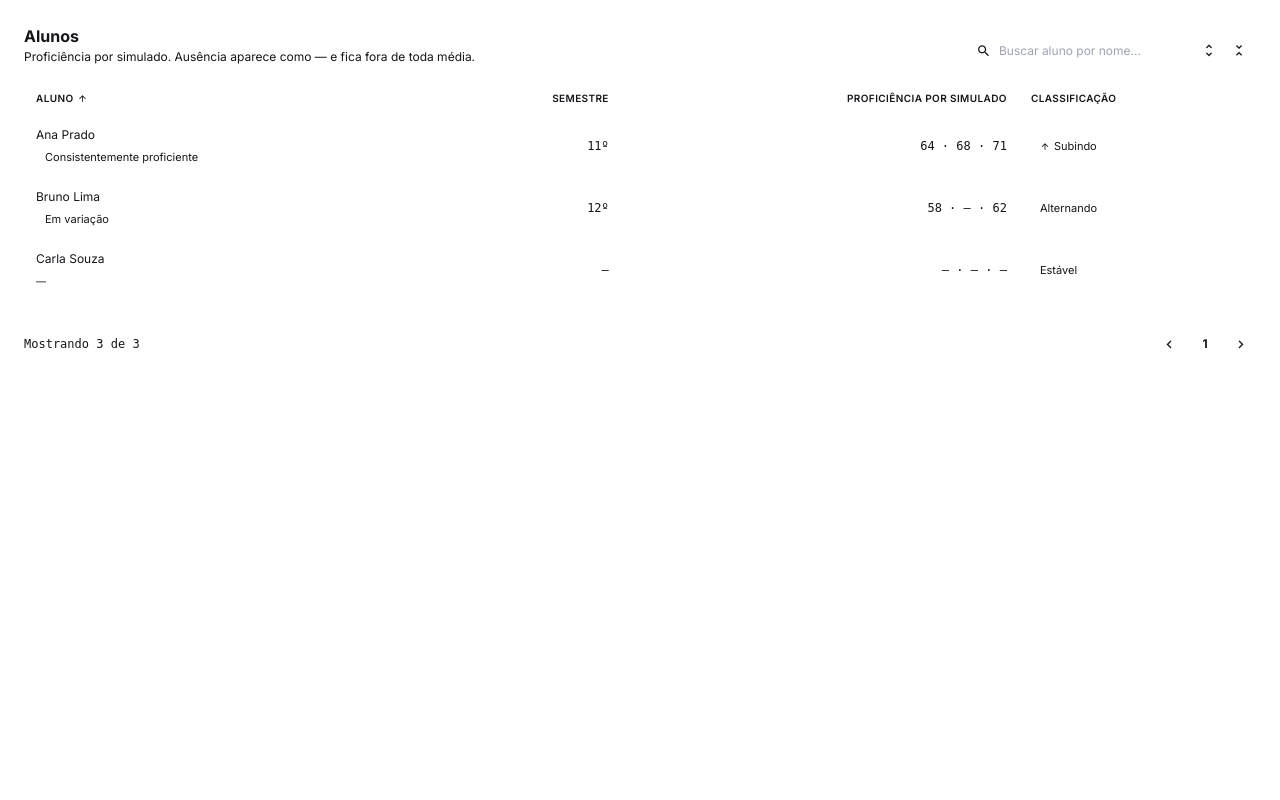
Scenario: TabelaAlunos › clicar em qualquer célula da linha abre o mesmo aluno
Click the cell with test id "semestre-a2" at (598,208), box left=446, top=177, right=621, bottom=239
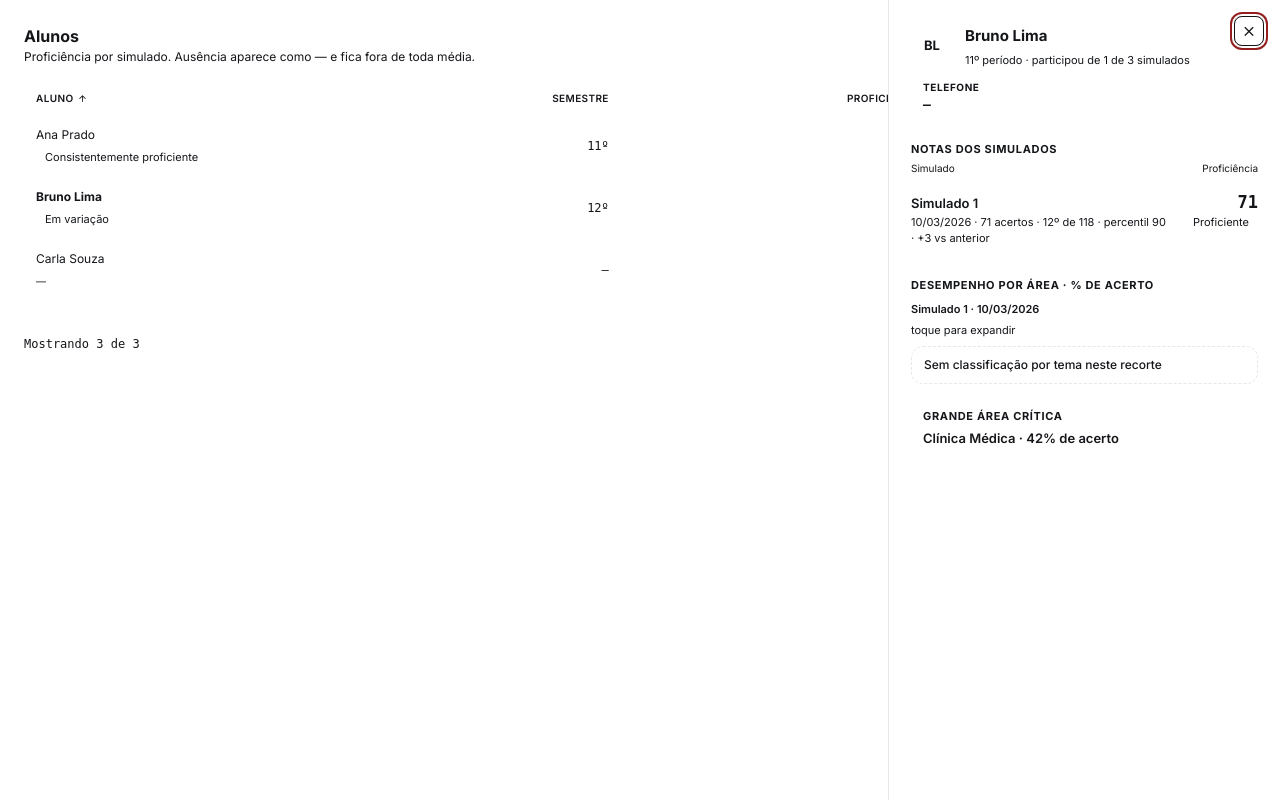
Check: the row with test id "linha-aluno-a2" has attribute data-selecionado="true", box left=24, top=177, right=1256, bottom=239
